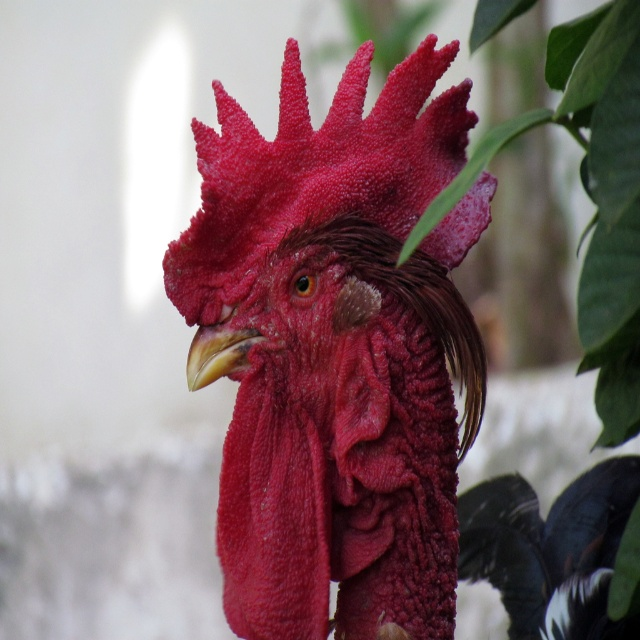Chicken: (162, 34, 640, 640)
